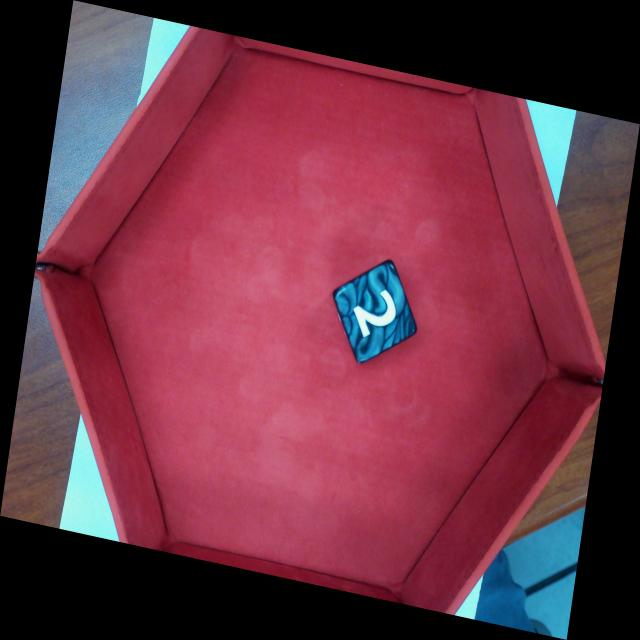dice: (336, 263, 416, 356)
